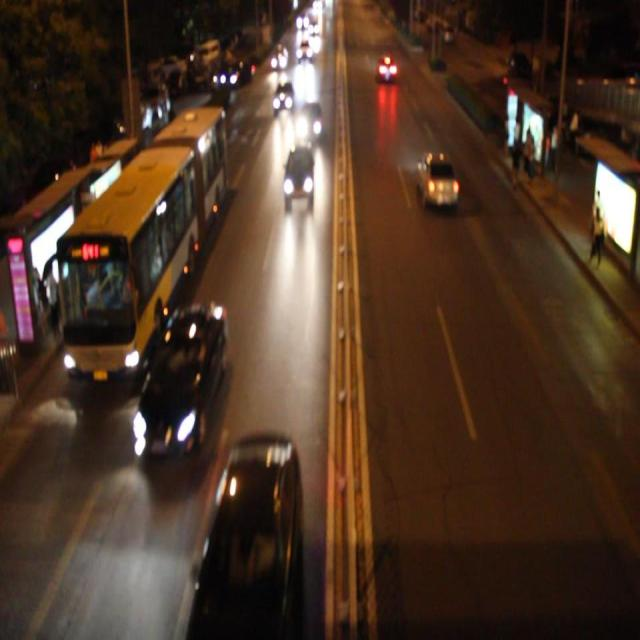car: (194, 430, 300, 640), (133, 306, 228, 452), (418, 147, 458, 209), (282, 142, 313, 200), (295, 100, 324, 144), (272, 76, 295, 112), (376, 49, 397, 82)
van: (54, 102, 219, 376)
